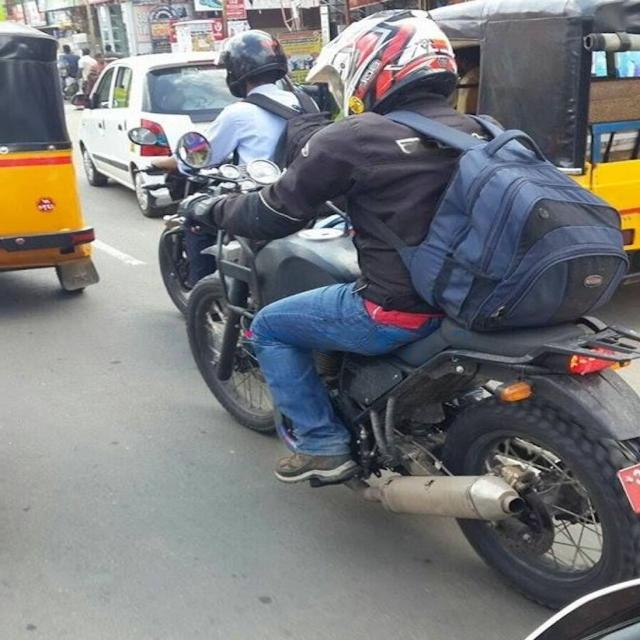car: (78, 51, 236, 216)
motorcycle: (163, 11, 640, 608)
